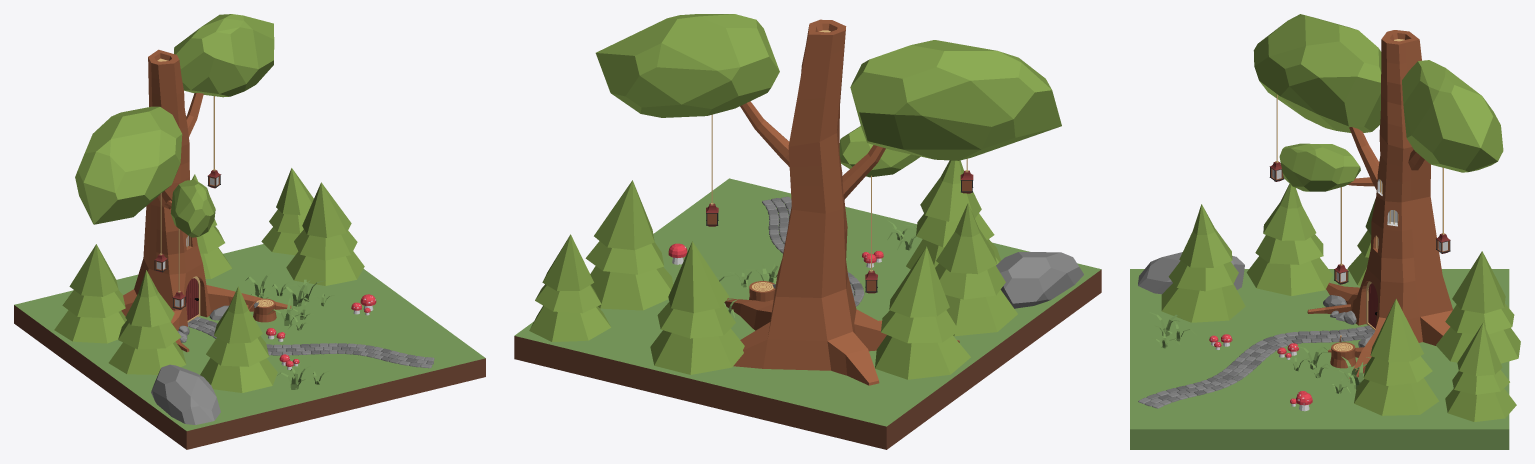
Rendered from Contest .fbx.
3 views of the same model, side by side, from view 1: azimuth 30°, elevation 25°; view 2: azimuth 150°, elevation 25°; view 3: azimuth 270°, elevation 25° (orthographic). The views are drawn at different scales.
Parts seen in each view (by area): view 1: Cube, Icosphere.005, Cube.001, Icosphere.006, Cone.005, Cone.002, Cone.003, Cone.001, Icosphere.008, Cone.006, Cube.007, Icosphere.007 (+3 smaller); view 2: Cube, Cube.001, Icosphere.005, Icosphere.006, Cone.004, Cone.001, Cone.005, Cone.003, Cone.006, Cone.002, Icosphere.008, Icosphere.007 (+3 smaller); view 3: Cube, Cube.001, Icosphere.005, Icosphere.006, Cone.002, Cone.005, Cone.003, Cone.004, Cone.006, Cube.007, Icosphere.007, Icosphere.008 (+4 smaller).
Part boxes in pixels (x1,y1,x2,y2): Cube: [14, 244, 485, 449]; Icosphere.005: [75, 106, 182, 224]; Cube.001: [121, 49, 291, 352]; Icosphere.006: [174, 14, 274, 97]; Cone.005: [286, 182, 364, 285]; Cone.002: [200, 286, 277, 392]; Cone.003: [108, 270, 186, 374]; Cone.001: [54, 244, 126, 343]; Icosphere.008: [151, 364, 220, 424]; Cone.006: [261, 168, 313, 255]; Cube.007: [187, 316, 434, 368]; Icosphere.007: [170, 179, 215, 237]; Cube: [514, 178, 1101, 449]; Cube.001: [724, 19, 959, 385]; Icosphere.005: [850, 40, 1061, 160]; Icosphere.006: [595, 14, 779, 117]; Cone.004: [650, 241, 744, 374]; Cone.001: [875, 246, 970, 379]; Cone.005: [585, 180, 673, 310]; Cone.003: [935, 203, 1017, 336]; Cone.006: [529, 234, 610, 341]; Cone.002: [906, 160, 1000, 269]; Icosphere.008: [996, 252, 1083, 308]; Icosphere.007: [839, 126, 920, 177]; Cube: [1130, 269, 1509, 449]; Cube.001: [1307, 30, 1452, 378]; Icosphere.005: [1253, 14, 1381, 132]; Icosphere.006: [1402, 60, 1503, 172]; Cone.002: [1161, 204, 1245, 322]; Cone.005: [1354, 299, 1438, 415]; Cone.003: [1246, 183, 1332, 295]; Cone.004: [1436, 251, 1520, 363]; Cone.006: [1445, 322, 1516, 421]; Cube.007: [1138, 325, 1374, 408]; Icosphere.007: [1279, 143, 1360, 191]; Icosphere.008: [1138, 252, 1244, 294].
Size of the model in its own units: 564 by 460 by 526.
